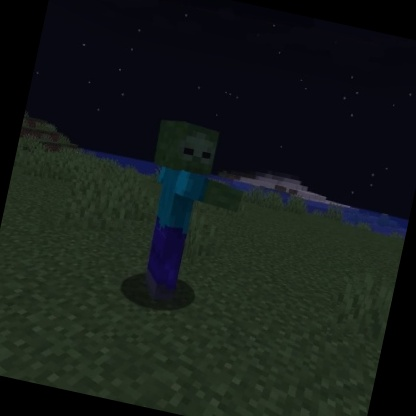zombie: (117, 113, 259, 317)
